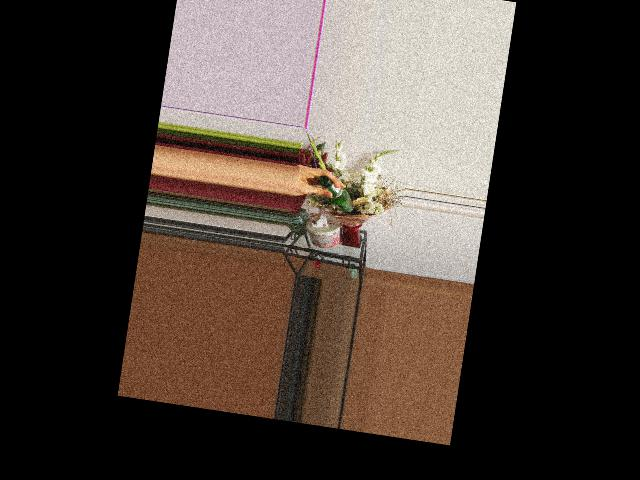beer: (314, 175, 357, 213)
